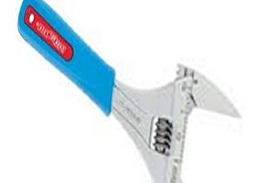wrench: (14, 1, 244, 183)
